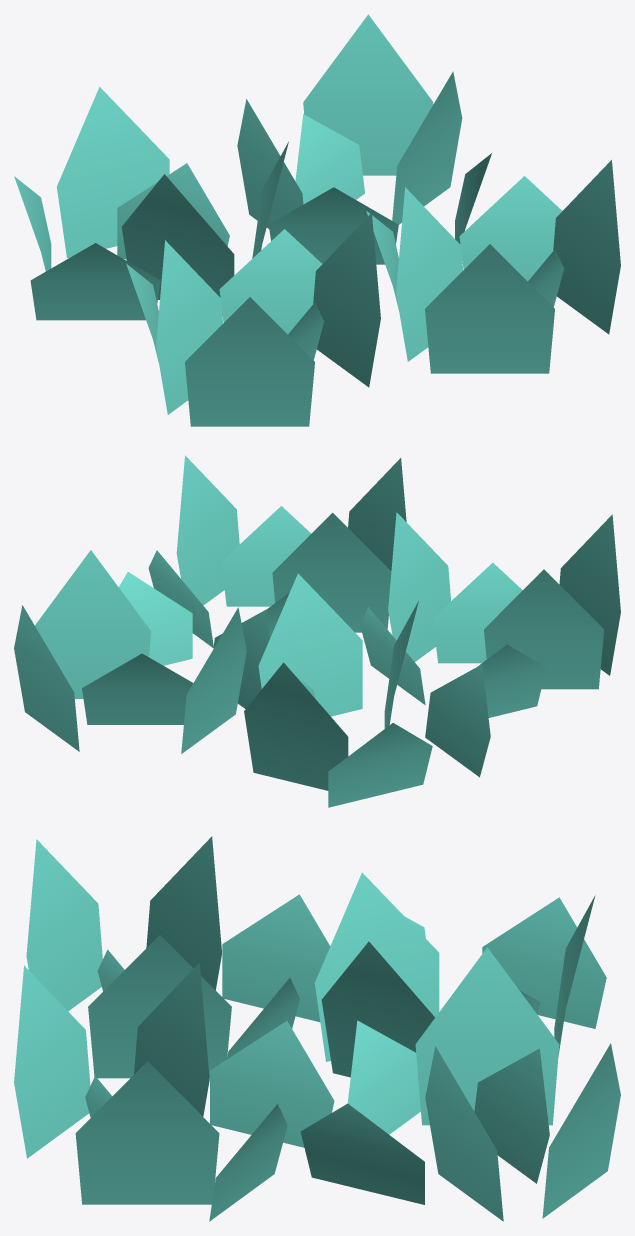
Rendered from grass_leafsLarge.gltf.
The picture shows the model from 3 angles, top to bottom: view 1: azimuth 30°, elevation 25°; view 2: azimuth 150°, elevation 25°; view 3: azimuth 270°, elevation 25°; orthographic projection. The views are drawn at different scales.
Visible parts, largest first — view 1: grass_leafsLarge; view 2: grass_leafsLarge; view 3: grass_leafsLarge.
Boxes of the visible parts, x1,y1,x2,y2 form: grass_leafsLarge: [14, 14, 620, 426]; grass_leafsLarge: [14, 455, 620, 807]; grass_leafsLarge: [14, 836, 620, 1221].
Bounding box in the file's own units: 0.4759 × 0.1425 × 0.4873.
